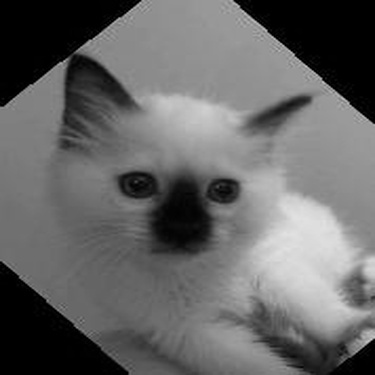cat: (55, 48, 373, 370)
